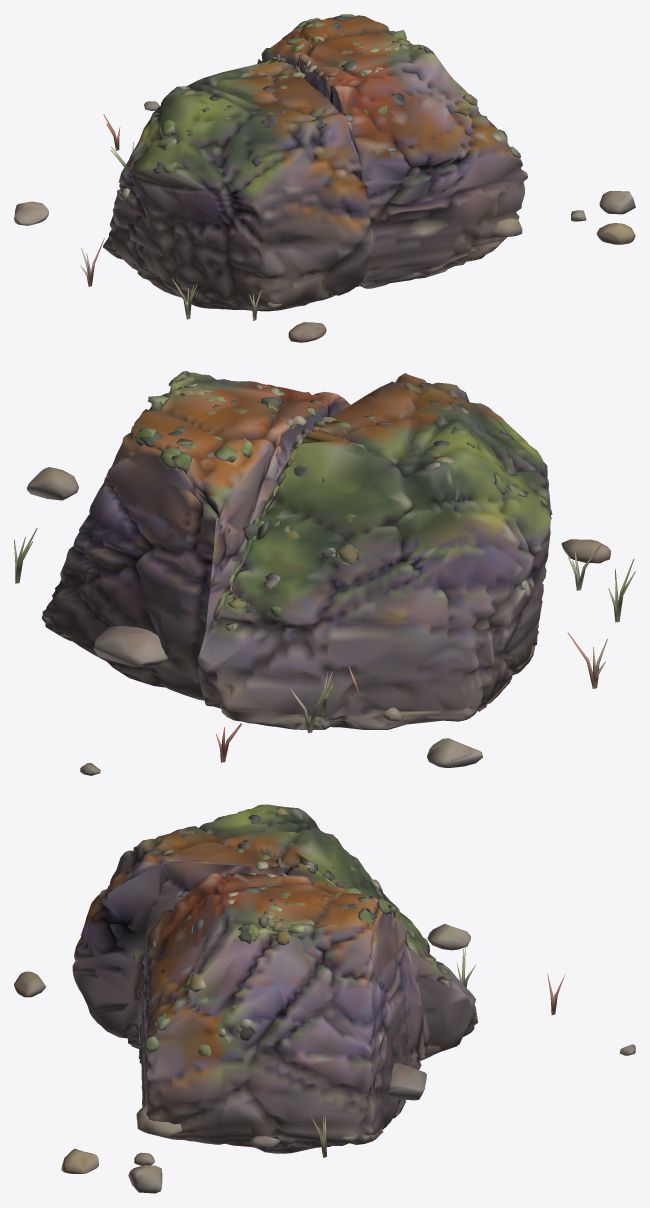
File: tas_yarik.glb
The picture shows the model from 3 angles, top to bottom: view 1: azimuth 30°, elevation 25°; view 2: azimuth 150°, elevation 25°; view 3: azimuth 270°, elevation 25°; orthographic projection. The views are drawn at different scales.
Parts seen in each view (by area): view 1: tas_yarik_LOD0; view 2: tas_yarik_LOD0; view 3: tas_yarik_LOD0.
Boxes of the visible parts, <box> form: tas_yarik_LOD0: <box>14,14,635,342</box>; tas_yarik_LOD0: <box>14,371,635,775</box>; tas_yarik_LOD0: <box>14,804,635,1193</box>.
Size of what is drawn, in the model's own units: 4.62 by 1.77 by 4.51.
